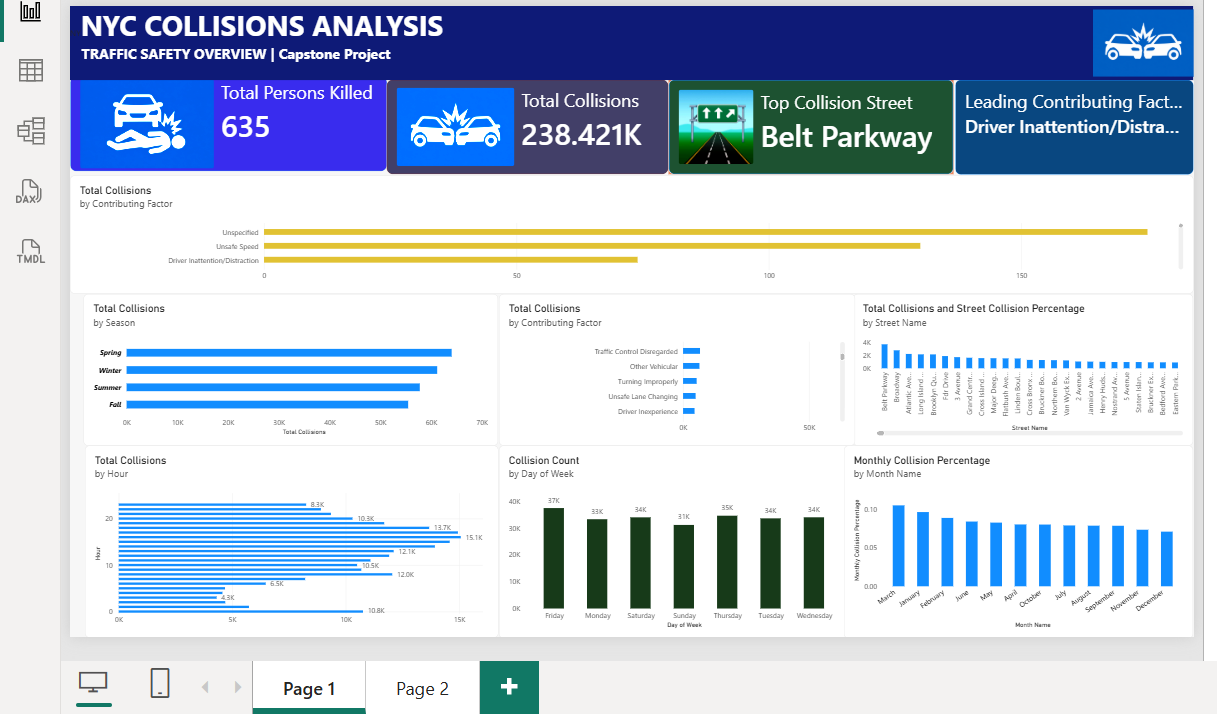

Layout of this report page (visuals, bound fields, positions):
{"tool":"powerbi","page":{"name":"Page 1","canvas":[1920,1080],"ordinal":0},"visuals":[{"type":"clusteredBarChart","fields":{"Category":["NYC_Collisions csv.Hour"],"Y":["NYC_Collisions csv.Total Collisions"]},"box":[25,750,706.7,328.3],"z":0},{"type":"clusteredColumnChart","fields":{"Category":["NYC_Collisions csv.Day of Week"],"Y":["NYC_Collisions csv.Collision Count"]},"box":[733.3,750,605,330],"z":1000},{"type":"clusteredColumnChart","fields":{"Category":["NYC_Collisions csv.Month Name"],"Y":["NYC_Collisions csv.Monthly Collision Percentage"]},"box":[1323.3,750,596.7,330],"z":2000},{"type":"clusteredBarChart","fields":{"Category":["NYC_Collisions csv.Season"],"Y":["NYC_Collisions csv.Total Collisions"]},"box":[23.7,491.5,708.5,259.3],"z":3000},{"type":"clusteredColumnChart","fields":{"Category":["NYC_Collisions csv.Street Name"],"Y":["NYC_Collisions csv.Total Collisions"]},"box":[1339,491.5,581.4,259.3],"z":4000},{"type":"clusteredBarChart","fields":{"Category":["NYC_Collisions csv.Contributing Factor"],"Y":["NYC_Collisions csv.Total Collisions"]},"box":[732.2,491.5,608.5,259.3],"z":5000},{"type":"clusteredBarChart","fields":{"Category":["NYC_Collisions csv.Contributing Factor"],"Y":["NYC_Collisions csv.Total Collisions"]},"box":[0,289.8,1920.3,201.7],"z":6000},{"type":"cardVisual","fields":{"Data":["NYC_Collisions csv.Total Persons Killed"]},"box":[0,121.6,542.5,162.5],"z":7000},{"type":"cardVisual","fields":{"Data":["NYC_Collisions csv.Top Collision Street"]},"box":[1023.7,126.3,487.5,162.5],"z":8000},{"type":"cardVisual","fields":{"Data":["NYC_Collisions csv.Total Collisions"]},"box":[542.1,126.3,482.5,162.5],"z":9000},{"type":"cardVisual","fields":{"Data":["NYC_Collisions csv.Leading Contributing Factor"]},"box":[1511.7,126.7,408.3,163.3],"z":10000},{"type":"textbox","box":[0,0,1920,126.7],"z":11001},{"type":"image","box":[1748.3,0,171.7,126.7],"z":11002}]}

Visuals, with their boxes on the page's 1920x1080 design canvas (x1, y1, x2, y2). These are canvas units, not pixel positions in the 1217x714 screenshot, which may show the page scaled, cropped or inside an application window:
clusteredBarChart - NYC_Collisions csv.Hour x NYC_Collisions csv.Total Collisions: (25, 750, 732, 1078)
clusteredColumnChart - NYC_Collisions csv.Day of Week x NYC_Collisions csv.Collision Count: (733, 750, 1338, 1080)
clusteredColumnChart - NYC_Collisions csv.Month Name x NYC_Collisions csv.Monthly Collision Percentage: (1323, 750, 1920, 1080)
clusteredBarChart - NYC_Collisions csv.Season x NYC_Collisions csv.Total Collisions: (24, 492, 732, 751)
clusteredColumnChart - NYC_Collisions csv.Street Name x NYC_Collisions csv.Total Collisions: (1339, 492, 1920, 751)
clusteredBarChart - NYC_Collisions csv.Contributing Factor x NYC_Collisions csv.Total Collisions: (732, 492, 1341, 751)
clusteredBarChart - NYC_Collisions csv.Contributing Factor x NYC_Collisions csv.Total Collisions: (0, 290, 1920, 492)
cardVisual - NYC_Collisions csv.Total Persons Killed: (0, 122, 542, 284)
cardVisual - NYC_Collisions csv.Top Collision Street: (1024, 126, 1511, 289)
cardVisual - NYC_Collisions csv.Total Collisions: (542, 126, 1025, 289)
cardVisual - NYC_Collisions csv.Leading Contributing Factor: (1512, 127, 1920, 290)
textbox: (0, 0, 1920, 127)
image: (1748, 0, 1920, 127)
